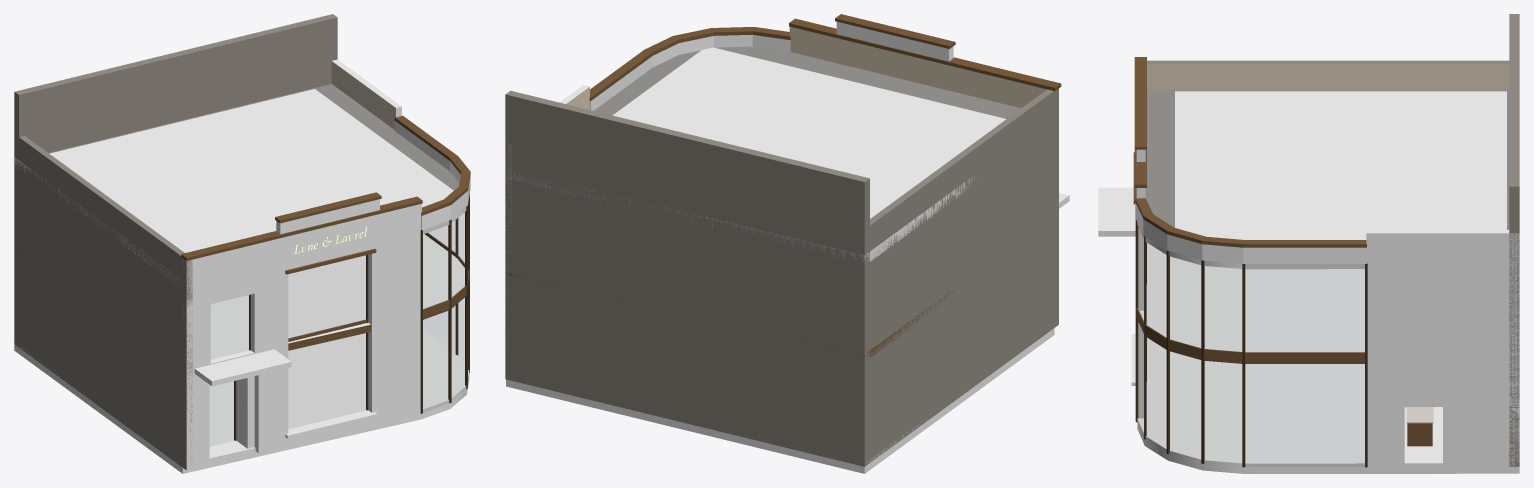
File: lune_and_laurel_lod2.glb
3 renders of one model, left to right at view 1: azimuth 30°, elevation 25°; view 2: azimuth 150°, elevation 25°; view 3: azimuth 270°, elevation 25°, orthographic. The views are drawn at different scales.
Parts seen in each view (by area): view 1: B03_LOD2_BUILDING_EXTERIOR_Stone, B03_LOD2_BUILDING_EXTERIOR_Roof, B03_LOD2_BUILDING_EXTERIOR_RearInterface, B03_LOD2_BUILDING_INTERIOR_GroundSlab, B03_LOD2_BUILDING_INTERIOR_FirstSlab, B03_LOD2_FACADE_DETAILS_Bronze, B03_LOD2_GLASS_SYSTEM_CornerFrame, B03_LOD2_FACADE_DETAILS_CornerBands, B03_LOD2_GLASS_SYSTEM_CornerGlass, B03_LOD2_GLASS_SYSTEM_TallWindowFrame; view 2: B03_LOD2_BUILDING_EXTERIOR_Stone, B03_LOD2_BUILDING_EXTERIOR_RearInterface, B03_LOD2_BUILDING_EXTERIOR_Roof, B03_LOD2_FACADE_DETAILS_CornerBands, B03_LOD2_BUILDING_INTERIOR_GroundSlab, B03_LOD2_FACADE_DETAILS_Bronze, B03_LOD2_BUILDING_INTERIOR_FirstSlab; view 3: B03_LOD2_BUILDING_EXTERIOR_Roof, B03_LOD2_BUILDING_EXTERIOR_Stone, B03_LOD2_BUILDING_INTERIOR_GroundSlab, B03_LOD2_BUILDING_INTERIOR_FirstSlab, B03_LOD2_GLASS_SYSTEM_CornerFrame, B03_LOD2_FACADE_DETAILS_CornerBands, B03_LOD2_BUILDING_EXTERIOR_RearInterface, B03_LOD2_FACADE_DETAILS_Bronze, B03_LOD2_DISPLAY_OBJECTS_Pastry.
Part boxes in pixels (left/top/right/bottom): B03_LOD2_BUILDING_EXTERIOR_Stone: left=14, top=59, right=421, bottom=470; B03_LOD2_BUILDING_EXTERIOR_Roof: left=14, top=84, right=466, bottom=286; B03_LOD2_BUILDING_EXTERIOR_RearInterface: left=14, top=14, right=337, bottom=346; B03_LOD2_BUILDING_INTERIOR_GroundSlab: left=14, top=330, right=469, bottom=473; B03_LOD2_BUILDING_INTERIOR_FirstSlab: left=17, top=234, right=466, bottom=372; B03_LOD2_FACADE_DETAILS_Bronze: left=181, top=192, right=422, bottom=438; B03_LOD2_GLASS_SYSTEM_CornerFrame: left=420, top=194, right=469, bottom=413; B03_LOD2_FACADE_DETAILS_CornerBands: left=394, top=115, right=470, bottom=230; B03_LOD2_GLASS_SYSTEM_CornerGlass: left=423, top=212, right=464, bottom=363; B03_LOD2_GLASS_SYSTEM_TallWindowFrame: left=288, top=255, right=368, bottom=410; B03_LOD2_BUILDING_EXTERIOR_Stone: left=505, top=21, right=1058, bottom=466; B03_LOD2_BUILDING_EXTERIOR_RearInterface: left=505, top=90, right=869, bottom=466; B03_LOD2_BUILDING_EXTERIOR_Roof: left=506, top=46, right=1020, bottom=264; B03_LOD2_FACADE_DETAILS_CornerBands: left=589, top=27, right=790, bottom=110; B03_LOD2_BUILDING_INTERIOR_GroundSlab: left=506, top=328, right=1054, bottom=473; B03_LOD2_FACADE_DETAILS_Bronze: left=789, top=14, right=1069, bottom=208; B03_LOD2_BUILDING_INTERIOR_FirstSlab: left=506, top=270, right=958, bottom=358; B03_LOD2_BUILDING_EXTERIOR_Roof: left=1137, top=89, right=1509, bottom=269; B03_LOD2_BUILDING_EXTERIOR_Stone: left=1136, top=60, right=1519, bottom=466; B03_LOD2_BUILDING_INTERIOR_GroundSlab: left=1137, top=337, right=1519, bottom=473; B03_LOD2_BUILDING_INTERIOR_FirstSlab: left=1138, top=243, right=1364, bottom=363; B03_LOD2_GLASS_SYSTEM_CornerFrame: left=1135, top=219, right=1367, bottom=467; B03_LOD2_FACADE_DETAILS_CornerBands: left=1135, top=198, right=1366, bottom=263; B03_LOD2_BUILDING_EXTERIOR_RearInterface: left=1509, top=14, right=1519, bottom=466; B03_LOD2_FACADE_DETAILS_Bronze: left=1098, top=57, right=1146, bottom=385; B03_LOD2_DISPLAY_OBJECTS_Pastry: left=1405, top=407, right=1433, bottom=446.
Size of the model in its own units: 16.1 by 12.42 by 16.5.
